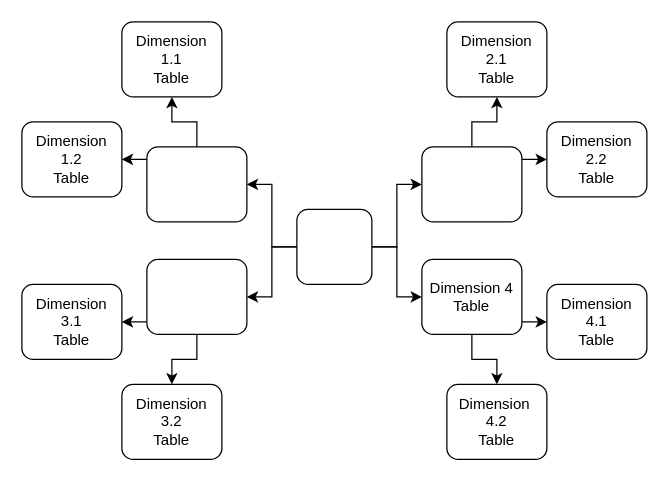
The diagram is 669 pixels wide and 481 high, and some of its shapes have lost their labels. Here are the shapes that lost their labels. From the top down, the box of each, then its label:
(146, 146, 247, 222): Dimension 1 Table
(421, 146, 522, 222): Dimension 2 Table
(296, 208, 372, 284): Facts Table
(146, 258, 247, 334): Dimension 3 Table
